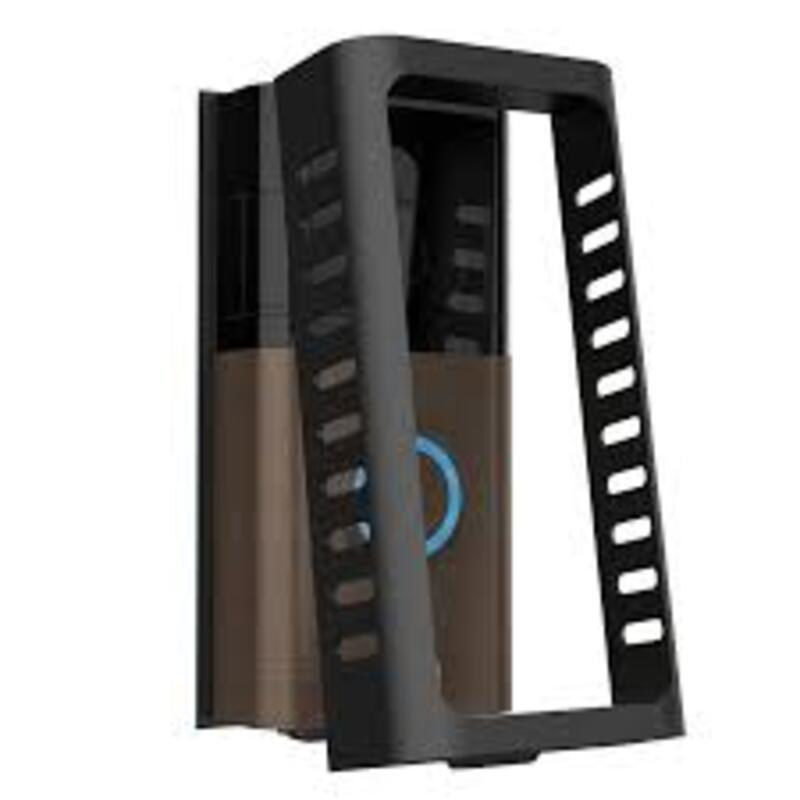doorbell: (188, 75, 529, 753)
